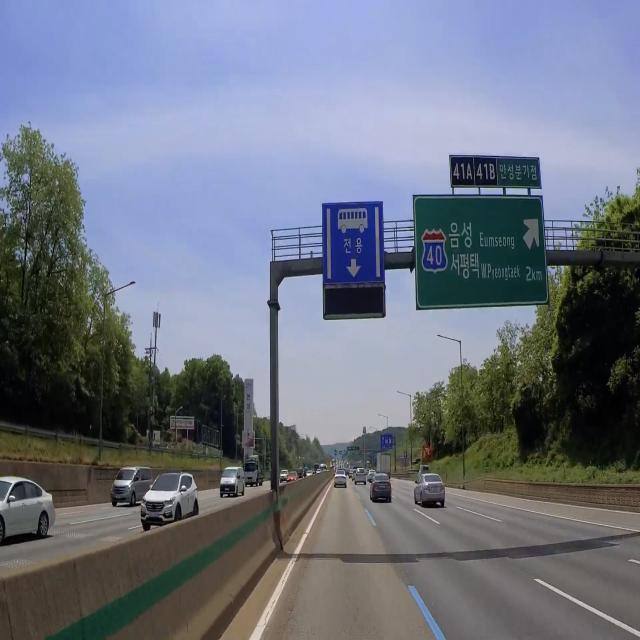car: (145, 508, 161, 522), (430, 484, 442, 496), (114, 490, 124, 504), (377, 483, 389, 492), (221, 485, 232, 494), (246, 478, 255, 485)
